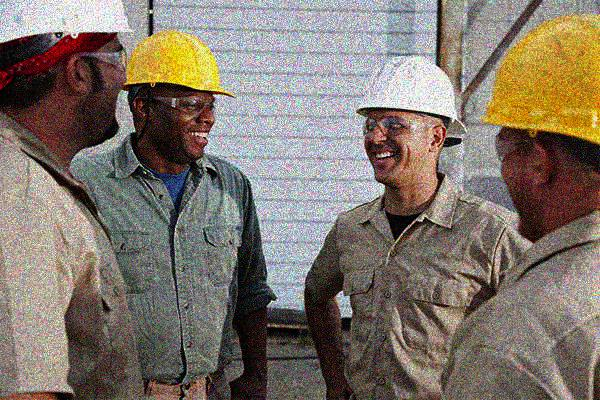helmet: (482, 14, 600, 235), (1, 1, 133, 148), (118, 33, 237, 164), (357, 55, 469, 184)
